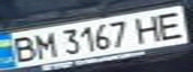1: (78, 24, 96, 53)
3: (57, 26, 81, 56)
6: (93, 20, 115, 52)
7: (106, 17, 136, 48)
B: (3, 34, 39, 64)
E: (151, 8, 190, 41)
H: (130, 12, 169, 44)
M: (30, 29, 57, 61)
